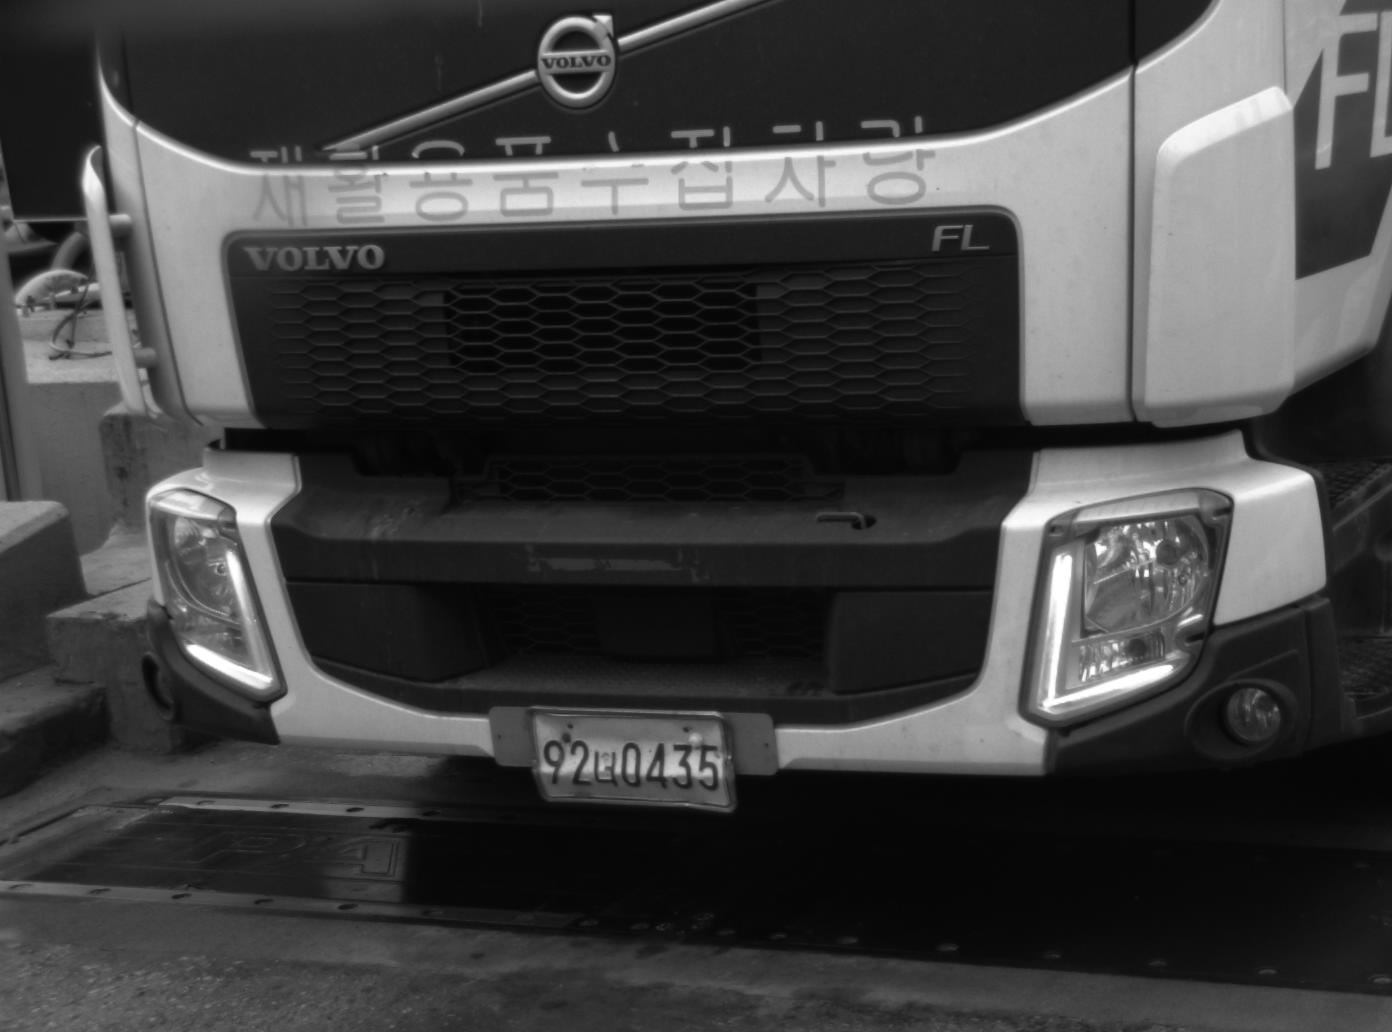car: (80, 1, 1389, 847)
plate: (526, 704, 740, 814)
